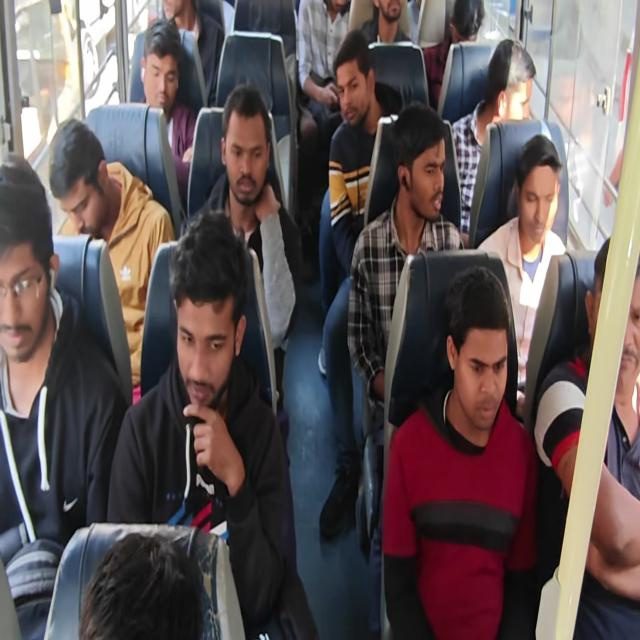person: (1, 1, 638, 638), (106, 208, 318, 638), (0, 152, 127, 637), (381, 264, 539, 638), (318, 29, 404, 539), (534, 236, 640, 638), (346, 100, 466, 437), (48, 118, 175, 404), (191, 83, 302, 410), (476, 133, 567, 419), (327, 29, 404, 275), (451, 38, 536, 235), (78, 530, 204, 638), (138, 17, 196, 206), (297, 0, 351, 145), (423, 0, 484, 110), (160, 0, 223, 106), (360, 0, 412, 45)
